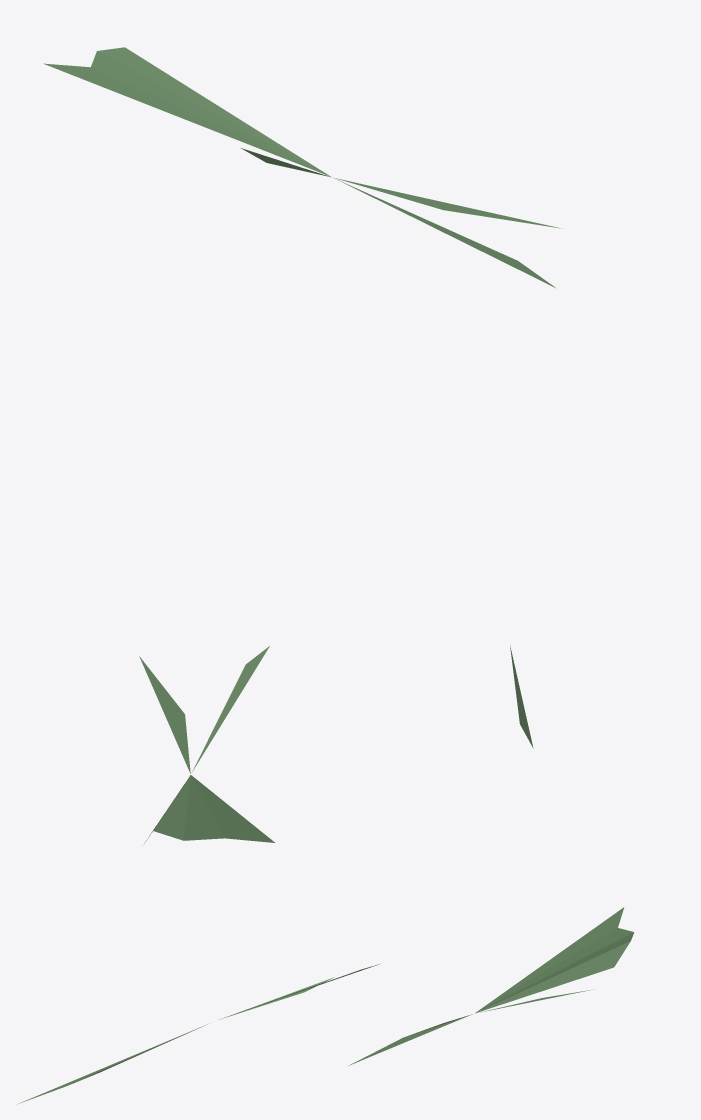
Rendered from c_1673_17820_forest.glb.
3 views of the same model, one above another, from view 1: azimuth 30°, elevation 25°; view 2: azimuth 150°, elevation 25°; view 3: azimuth 270°, elevation 25° (orthographic). The views are drawn at different scales.
Parts seen in each view (by area): view 1: geometry_0; view 2: geometry_0; view 3: geometry_0.
Part boxes in pixels (left/top/right/bottom): geometry_0: left=43, top=47, right=561, bottom=288; geometry_0: left=139, top=645, right=533, bottom=843; geometry_0: left=17, top=907, right=634, bottom=1104.
Bounding box in the file's own units: 181 × 103 × 432.
